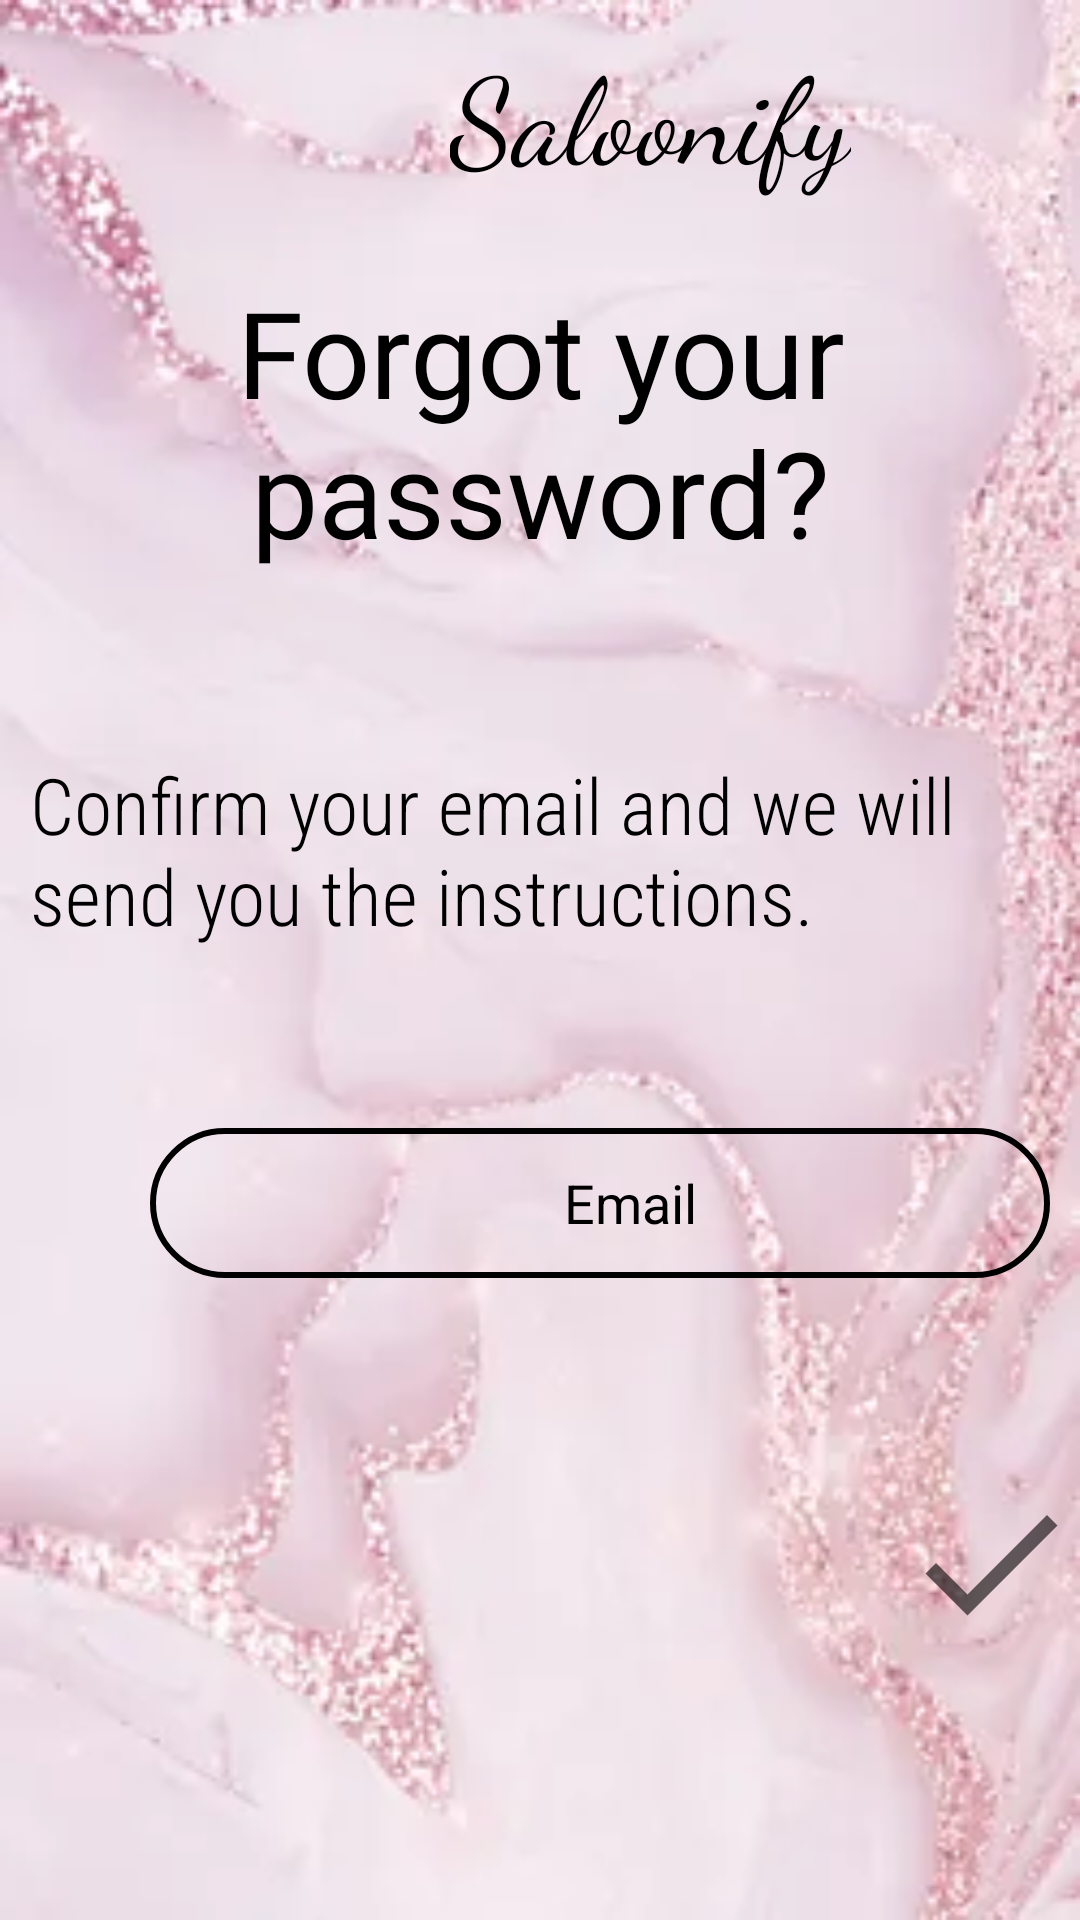

Icons on this 1080×1920 Android screen, each with the point to tap as [x,y]:
done: [990,1563]
